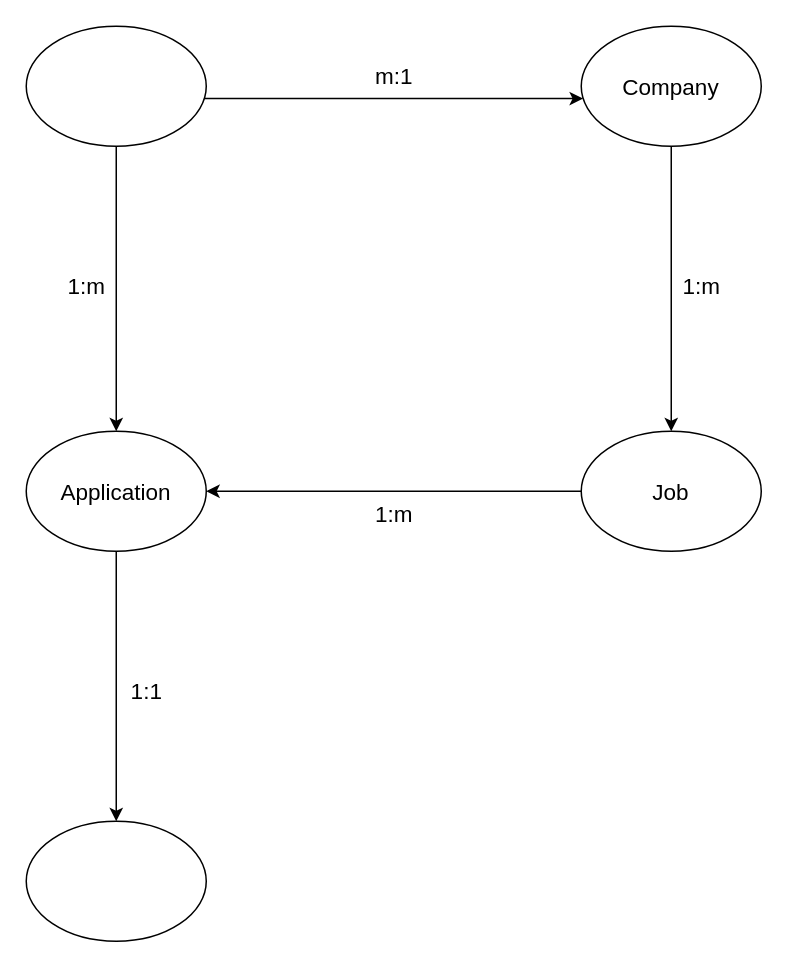
Some shapes in this 788 by 968 pixel diagram are drawn without their labels. Each missing label, with the centre of its shape:
Invoice: [115,880]
User: [115,85]
